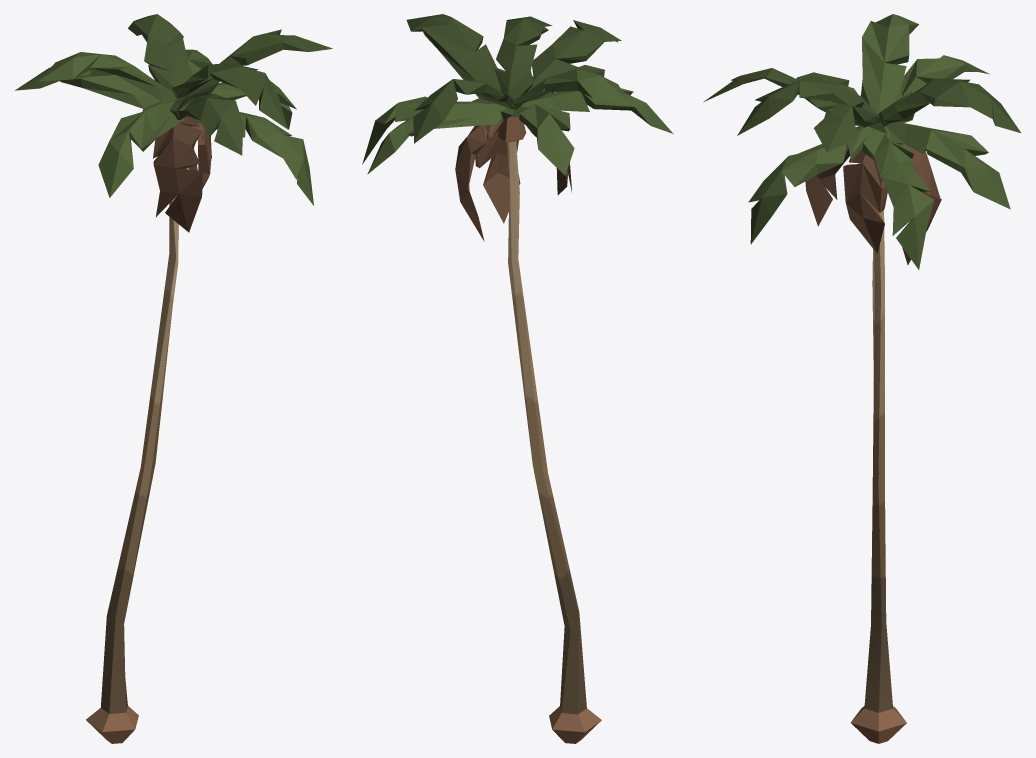
File: SM_Env_Palm_02.fbx
The picture shows the model from 3 angles, left to right: view 1: azimuth 30°, elevation 25°; view 2: azimuth 150°, elevation 25°; view 3: azimuth 270°, elevation 25°; orthographic projection. The views are drawn at different scales.
Visible parts, largest first — view 1: SM_Env_Palm_02; view 2: SM_Env_Palm_02; view 3: SM_Env_Palm_02.
Boxes of the visible parts, left/top/right/bottom form: SM_Env_Palm_02: left=15, top=14, right=332, bottom=743; SM_Env_Palm_02: left=362, top=14, right=673, bottom=743; SM_Env_Palm_02: left=703, top=14, right=1020, bottom=743.
Size of the model in its own units: 247 by 619 by 253.
